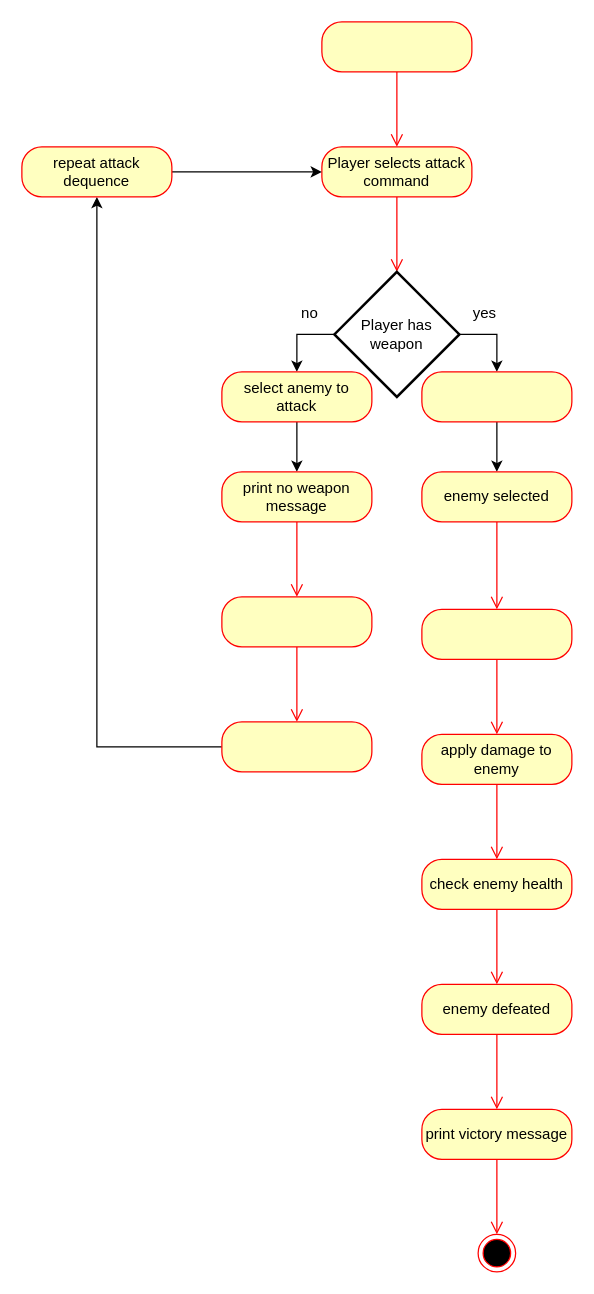
Some shapes in this 594 by 1294 pixel diagram are drawn without their labels. The shapes that lost their labels are listed below. From the top down, each one's box as (x1, y1, x2, y2) in pixels, then its label:
(321, 21, 472, 72): Player attack squence
(421, 371, 572, 422): select enemy to attack
(221, 596, 372, 647): no enemy selected
(421, 608, 572, 659): calculate damage
(221, 721, 372, 772): print no enemy message
